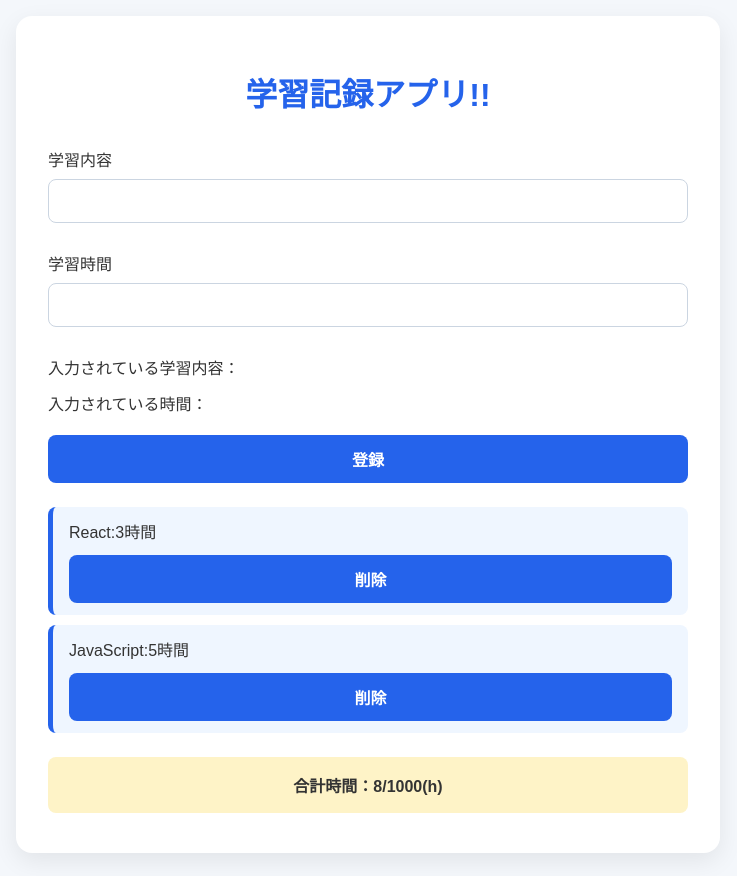
入力なしで登録するとエラーが表示される
The width and height of the screenshot is (737, 876).
Expected: the heading "学習記録アプリ!!" is shown, [245,77,491,113]
Click the button "登録" at coordinates (368, 459), box [48,435,688,483]
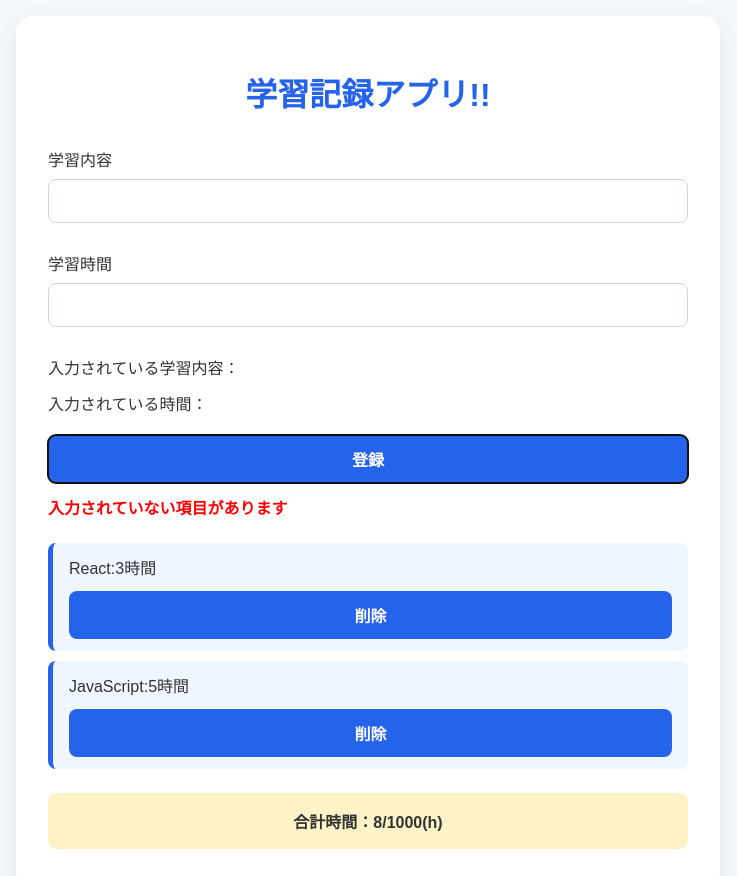
Expected: the text "入力されていない項目があります" is shown, [48,500,288,517]
